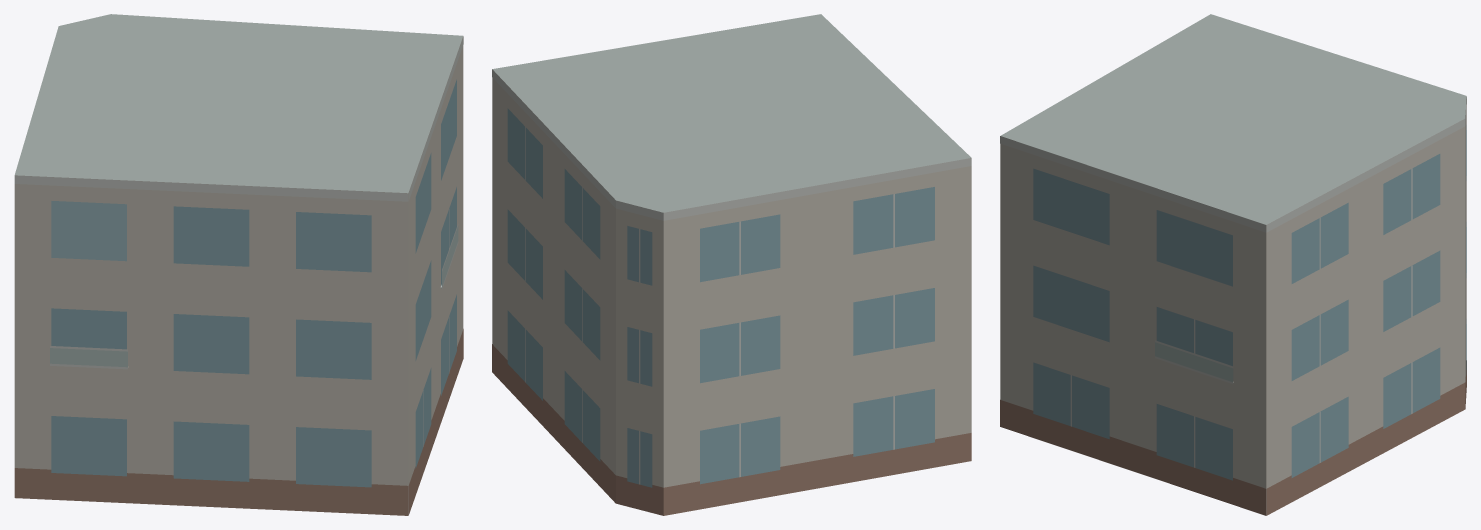
The model's file is survey-upis-32809988.glb.
The picture shows the model from 3 angles, left to right: view 1: azimuth 30°, elevation 25°; view 2: azimuth 150°, elevation 25°; view 3: azimuth 270°, elevation 25°; orthographic projection. The views are drawn at different scales.
Visible parts, largest first — view 1: survey-upis-32809988.tmp; view 2: survey-upis-32809988.tmp; view 3: survey-upis-32809988.tmp.
Part boxes in pixels (x1=…): survey-upis-32809988.tmp: x1=14, y1=14, x2=463, y2=515; survey-upis-32809988.tmp: x1=492, y1=14, x2=971, y2=515; survey-upis-32809988.tmp: x1=1000, y1=14, x2=1466, y2=515.
Bounding box in the file's own units: 14.24 × 9.15 × 13.31.
